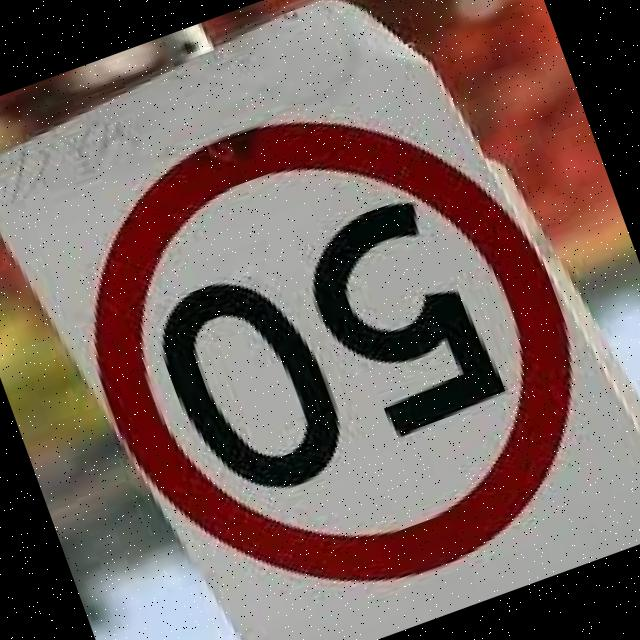speed_limit_50: (15, 38, 633, 640)
